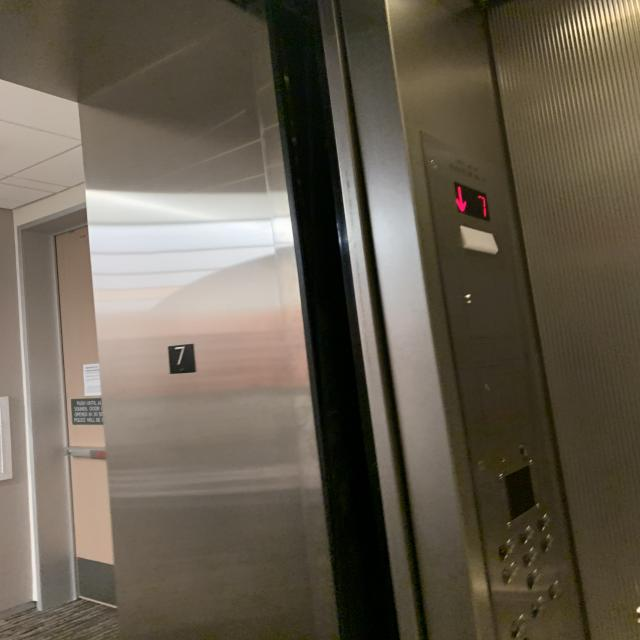box: (449, 182, 502, 224)
